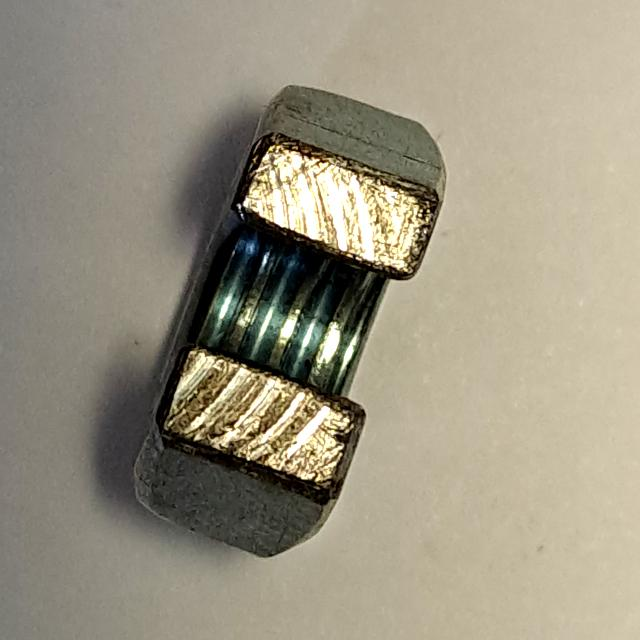Side-Fracture: (113, 72, 455, 575)
